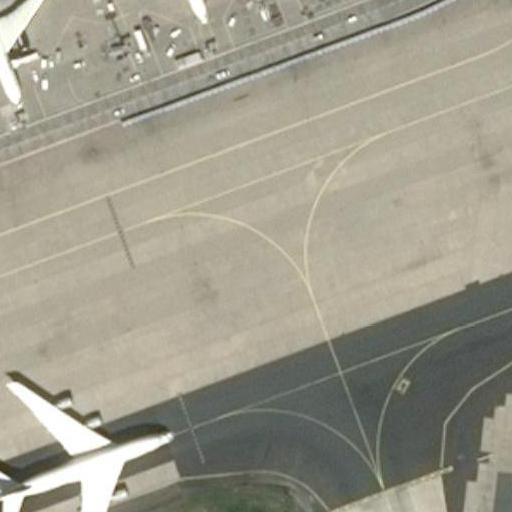Aircraft: (0, 372, 174, 512), (0, 0, 56, 111), (82, 0, 242, 23)
